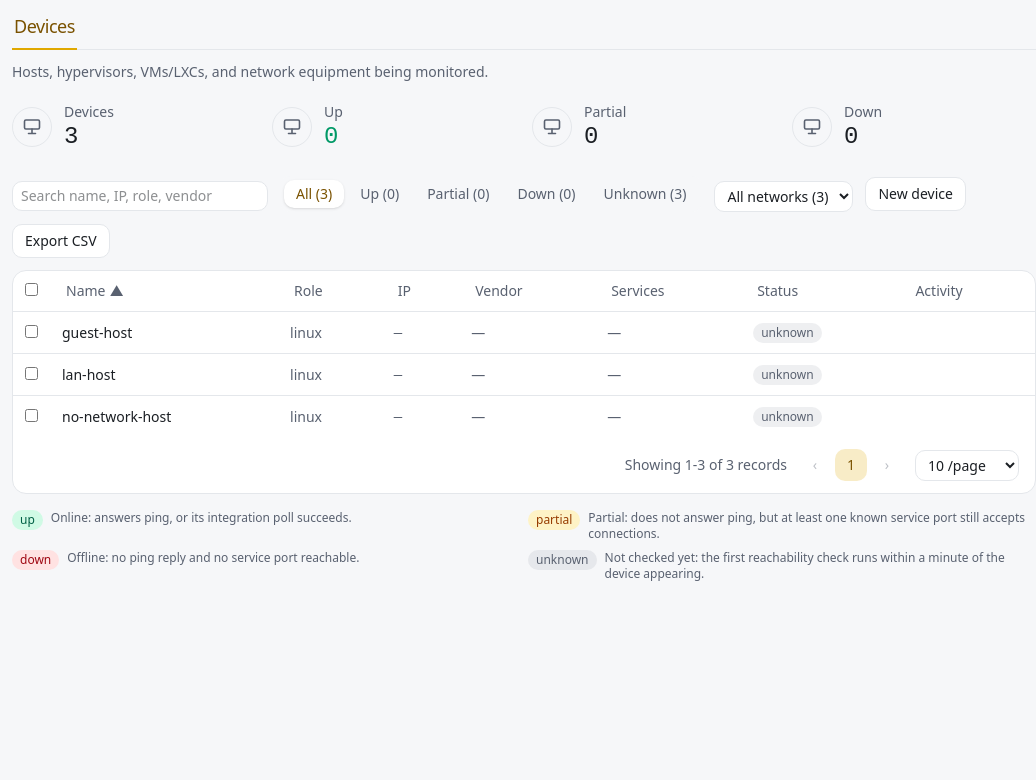
Test: DevicesPage › filters devices by network
Expected: the link "lan-host" is shown, x1=62 y1=364 x2=116 y2=384
Expected: the link "guest-host" is shown, x1=62 y1=322 x2=132 y2=342
Select "LAN (1)" in the dropdown named "Filter by network" at (784, 196), box x1=714 y1=180 x2=854 y2=212
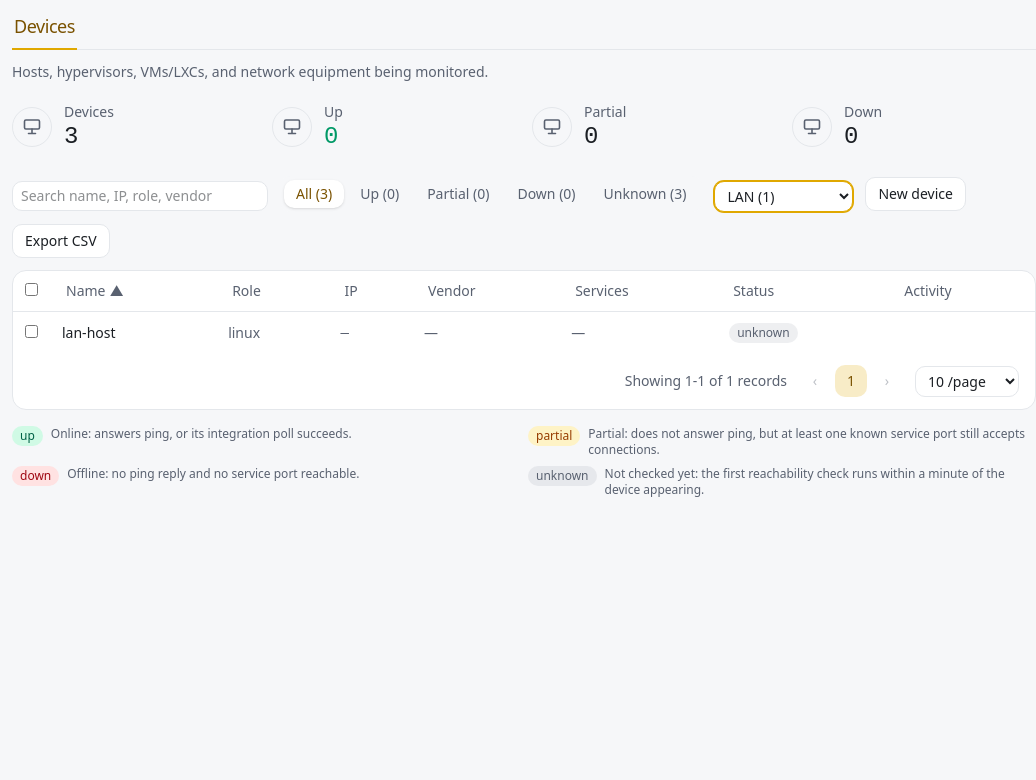
Expected: the link "lan-host" is shown, x1=62 y1=322 x2=116 y2=342
Expected: the link "guest-host" is gone
Expected: the link "no-network-host" is gone
Select "Unassigned (1)" in the dropdown named "Filter by network" at (784, 196), box x1=714 y1=180 x2=854 y2=212
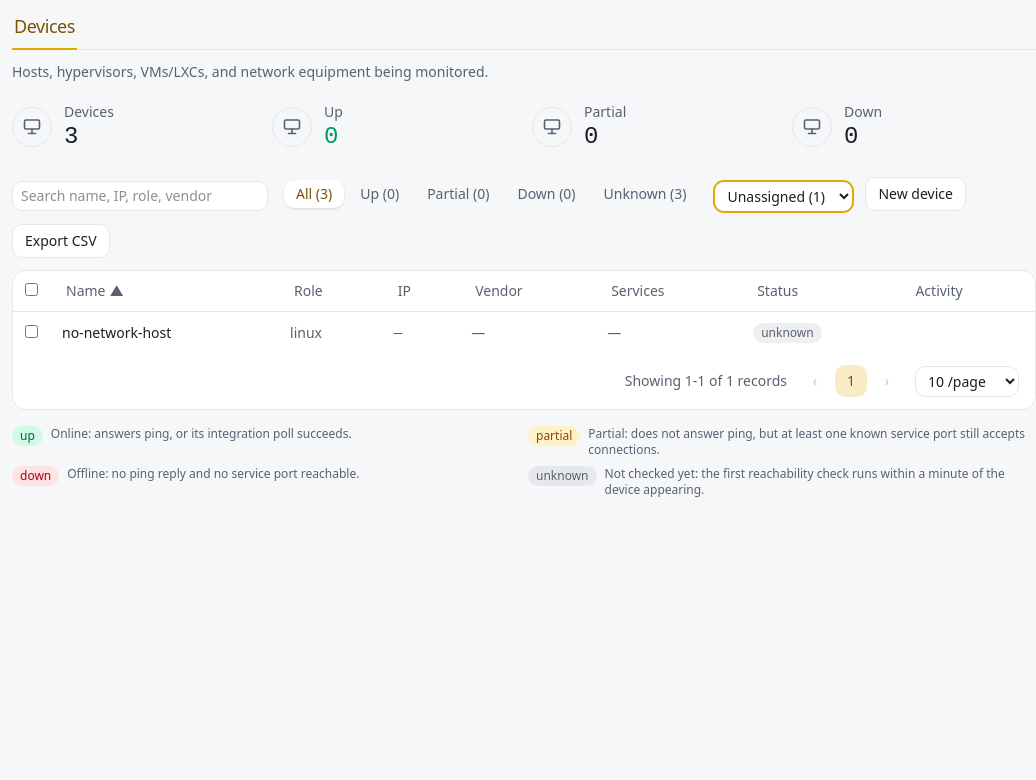
Expected: the link "guest-host" is not shown
Expected: the link "no-network-host" is shown, x1=62 y1=322 x2=171 y2=342
Expected: the link "lan-host" is gone
